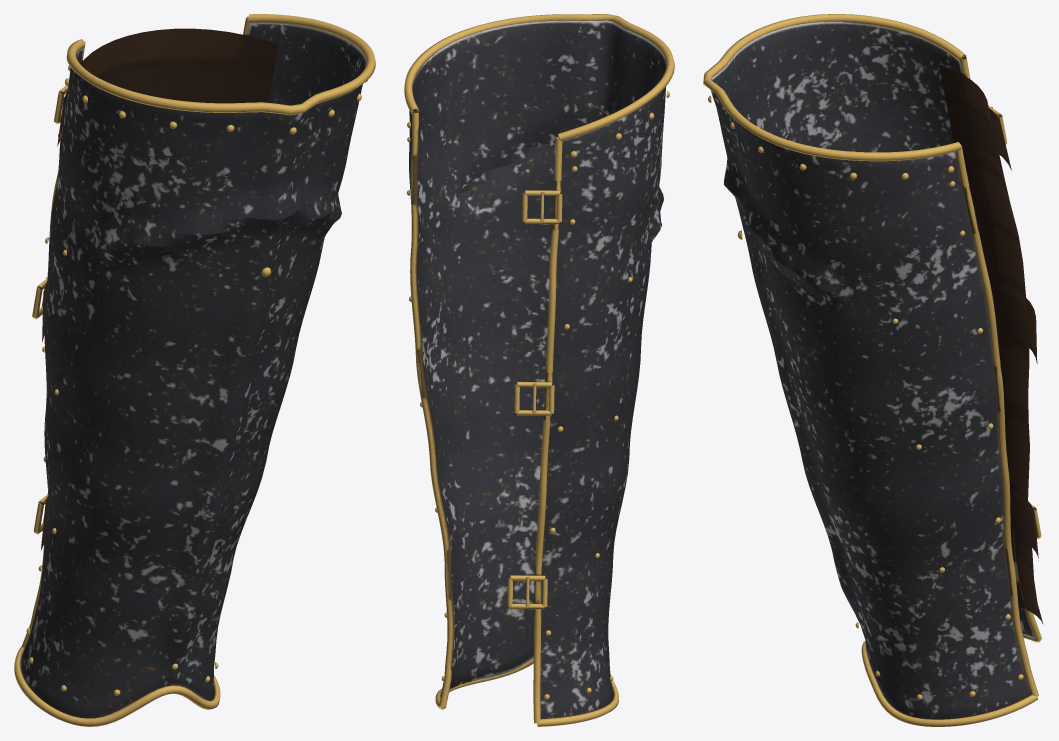
File: SM_EagleGreaves_R.fbx
3 renders of one model, left to right at view 1: azimuth 30°, elevation 25°; view 2: azimuth 150°, elevation 25°; view 3: azimuth 270°, elevation 25°, orthographic. The views are drawn at different scales.
Visible parts, largest first — view 1: SM_EagleGreaves_R; view 2: SM_EagleGreaves_R; view 3: SM_EagleGreaves_R.
Part boxes in pixels (x1,y1,x2,y2): SM_EagleGreaves_R: [14, 14, 375, 726]; SM_EagleGreaves_R: [404, 14, 674, 726]; SM_EagleGreaves_R: [703, 14, 1043, 726].
Size of the model in its own units: 0.1609 by 0.3963 by 0.1913.
